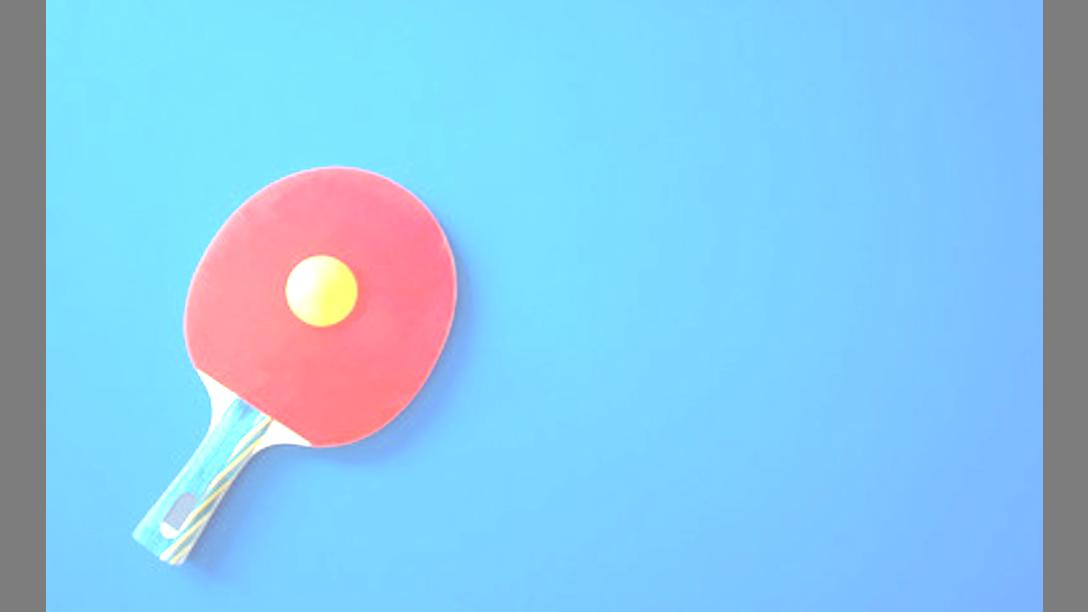Table-Tennis-Ball: (286, 256, 354, 324)
